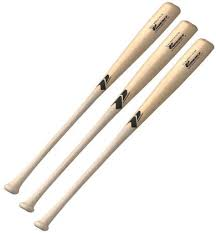baseball bat: (34, 36, 214, 231), (20, 19, 198, 212), (5, 3, 181, 194)
